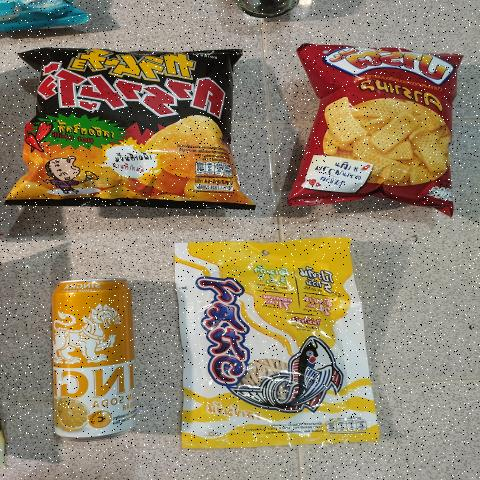karamujo: (39, 49, 237, 199)
party_red: (292, 49, 460, 188)
singha_yellow: (48, 273, 136, 446)
taro_yellow: (181, 239, 348, 445)
